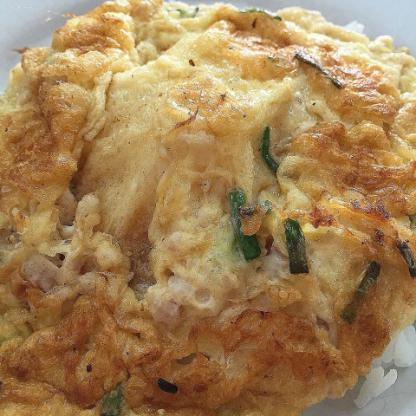Omelette: (10, 7, 415, 405)
